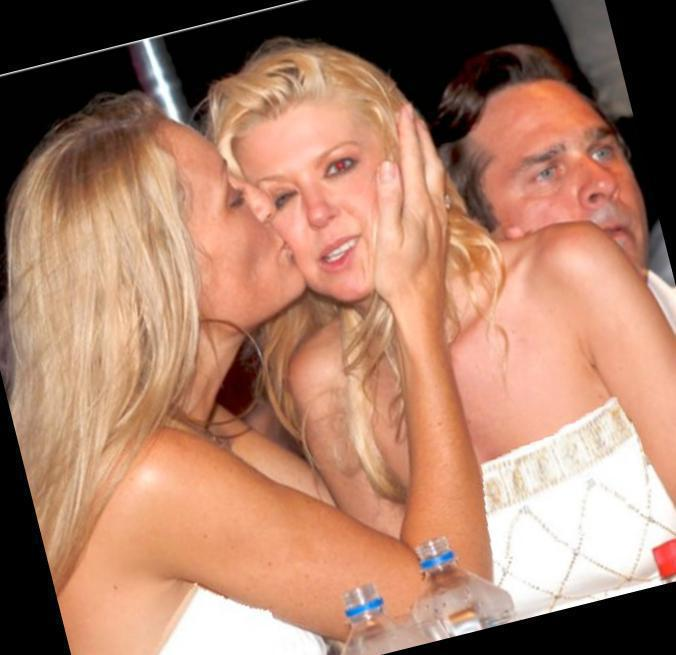Drunk: (232, 93, 394, 304), (465, 79, 645, 264)
